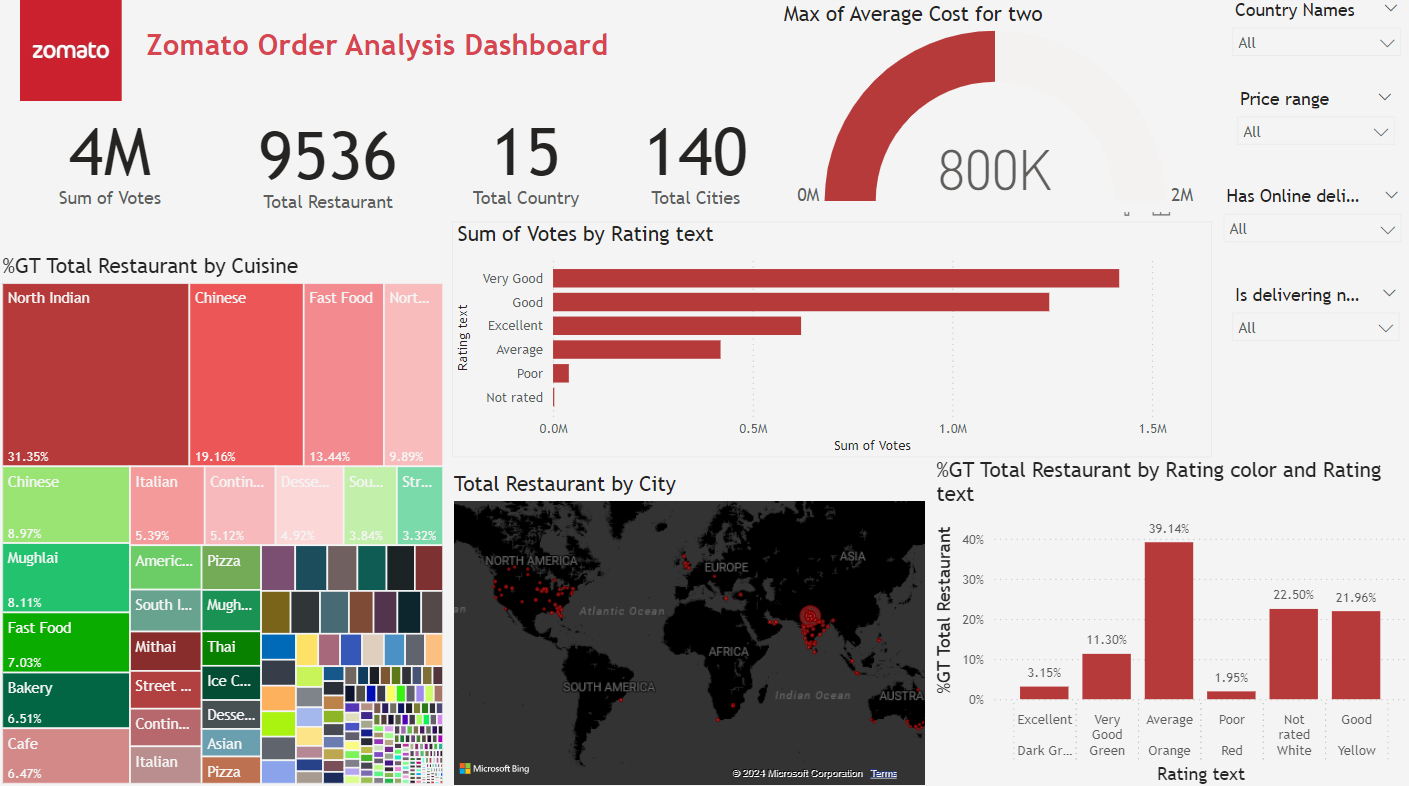

The page's visual inventory and layout, read from the dashboard file:
{"tool":"powerbi","page":{"name":"Dashboard Alma","canvas":[1280,720],"ordinal":0},"visuals":[{"type":"slicer","fields":{"Values":["zomato.Country Names"]},"box":[1107.1,0,172.9,71.4],"z":0},{"type":"slicer","fields":{"Values":["zomato.Price range"]},"box":[1111.4,80,162.9,71.4],"z":1000},{"type":"slicer","fields":{"Values":["zomato.Has Online delivery"]},"box":[1098.6,168.6,181.4,75.7],"z":2000},{"type":"slicer","fields":{"Values":["zomato.Is delivering now"]},"box":[1108.6,261.4,171.4,71.4],"z":3000},{"type":"card","fields":{"Values":["zomato.Total Restaurant"]},"box":[151.4,97.1,167.1,100],"z":4000},{"type":"card","fields":{"Values":["zomato.Total Country"]},"box":[664.3,101.4,138.6,100],"z":5000},{"type":"card","fields":{"Values":["zomato.Total Cities"]},"box":[860,101.4,150,100],"z":6000},{"type":"card","fields":{"Values":["zomato.Votes"]},"box":[0,97.1,138.6,100],"z":7000},{"type":"map","fields":{"Category":["zomato.City"],"Size":["zomato.Total Restaurant"]},"box":[408.6,431.4,435.7,288.6],"z":8000},{"type":"treemap","fields":{"Group":["zomato.Cuisine"],"Values":["zomato.Total Restaurant"]},"box":[0,235.7,408.6,484.3],"z":9000},{"type":"columnChart","fields":{"Category":["zomato.Rating color","zomato.Rating text"],"Y":["zomato.Total Restaurant"]},"box":[844.3,420,435.7,300],"z":10000},{"type":"clusteredBarChart","fields":{"Category":["zomato.Rating text"],"Y":["zomato.Votes"]},"box":[411.4,244.3,687.1,175.7],"z":11000},{"type":"gauge","fields":{"Y":["zomato.Average Cost for two"]},"box":[341.4,97.1,298.6,130],"z":12000},{"type":"textbox","box":[130,25.7,444.3,45.7],"z":13000},{"type":"image","box":[0,0,134.3,101.4],"z":14000}]}

Visuals, with their boxes in screenshot pixels (x1, y1, x2, y2), scaled from the page's 1280x720 canvas onto the 1409x786 screenshot:
slicer - zomato.Country Names: (1219,0,1408,78)
slicer - zomato.Price range: (1223,87,1403,165)
slicer - zomato.Has Online delivery: (1209,184,1408,267)
slicer - zomato.Is delivering now: (1220,285,1408,363)
card - zomato.Total Restaurant: (167,106,351,215)
card - zomato.Total Country: (731,111,884,220)
card - zomato.Total Cities: (947,111,1112,220)
card - zomato.Votes: (0,106,153,215)
map - zomato.City x zomato.Total Restaurant: (450,471,929,785)
treemap - zomato.Cuisine x zomato.Total Restaurant: (0,257,450,785)
columnChart - zomato.Rating color x zomato.Rating text: (929,458,1408,785)
clusteredBarChart - zomato.Rating text x zomato.Votes: (453,267,1209,458)
gauge - zomato.Average Cost for two: (376,106,704,248)
textbox: (143,28,632,78)
image: (0,0,148,111)
